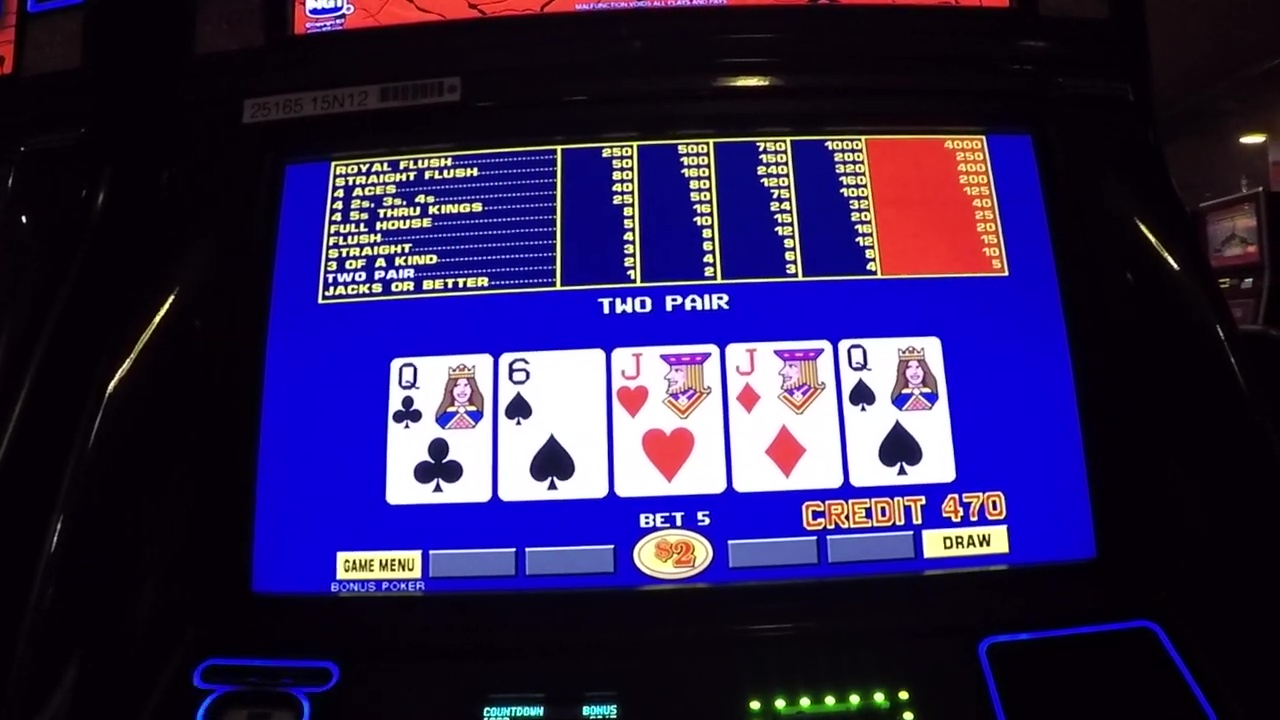CQ: (392, 358, 490, 434)
DJ: (728, 347, 832, 418)
HJ: (617, 348, 718, 425)
S6: (502, 354, 602, 436)
SQ: (842, 344, 943, 416)
